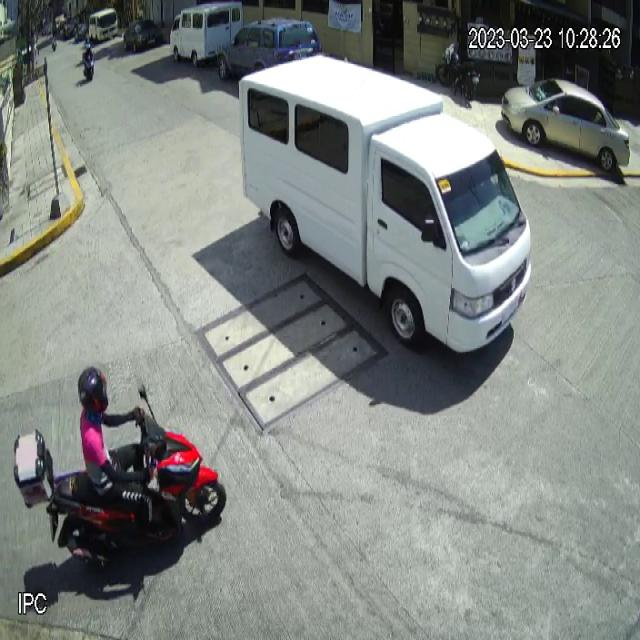Car: (500, 76, 631, 174)
Motorcycle: (11, 381, 229, 564)
Van: (238, 50, 534, 358), (170, 0, 244, 70)
